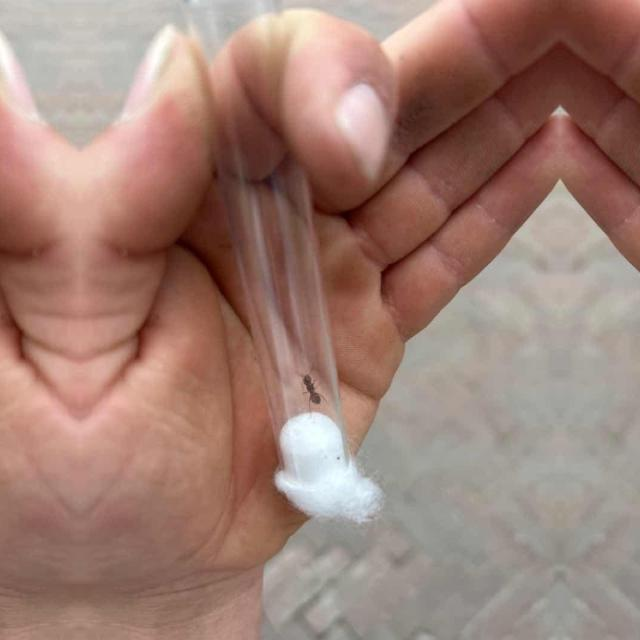Lasius: (296, 368, 324, 410)
